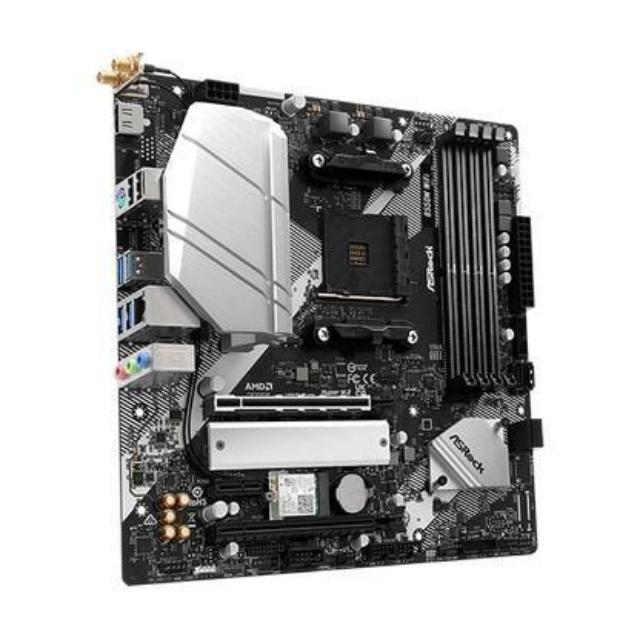Mainboard: (91, 58, 544, 582)
